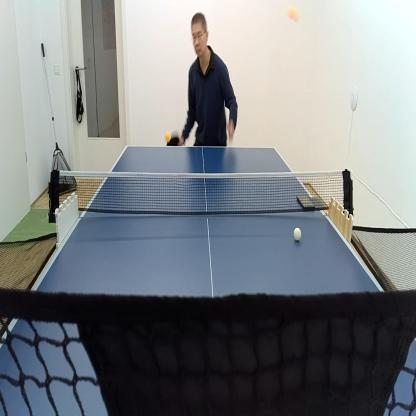Ball: (294, 226, 301, 240), (290, 9, 297, 21), (166, 132, 170, 141)
